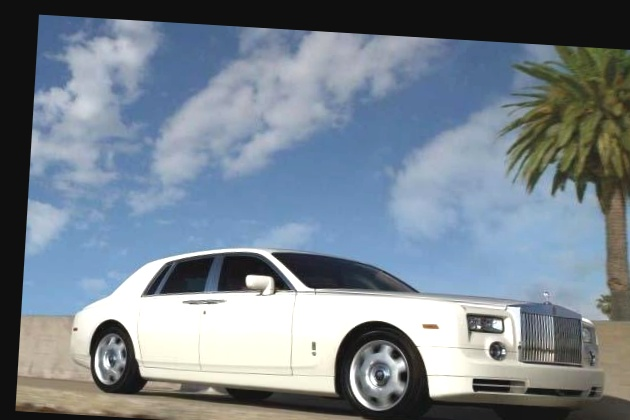car: (55, 214, 630, 420)
